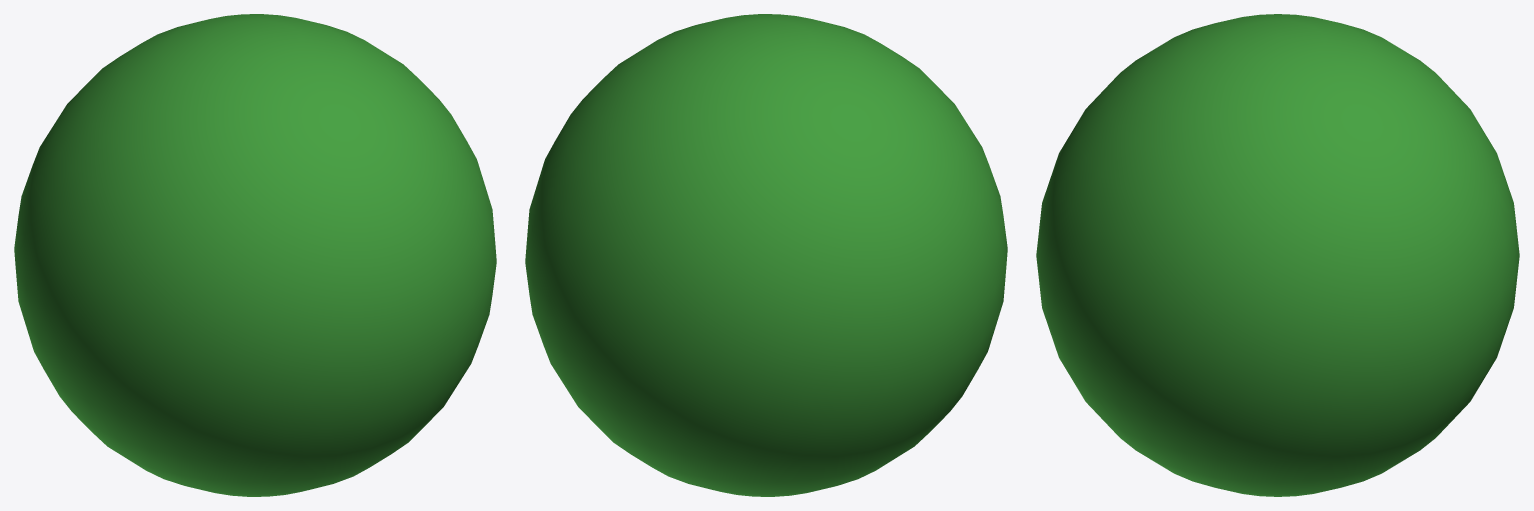
File: BowlingBall-Sphere.gltf
3 views of the same model, side by side, from view 1: azimuth 30°, elevation 25°; view 2: azimuth 150°, elevation 25°; view 3: azimuth 270°, elevation 25° (orthographic).
Visible parts, largest first — view 1: Sphere; view 2: Sphere; view 3: Sphere.
Boxes of the visible parts, x1=… form: Sphere: x1=14, y1=14, x2=496, y2=496; Sphere: x1=525, y1=14, x2=1007, y2=496; Sphere: x1=1036, y1=14, x2=1519, y2=496.
Size of the model in its own units: 0.216 by 0.216 by 0.216.
